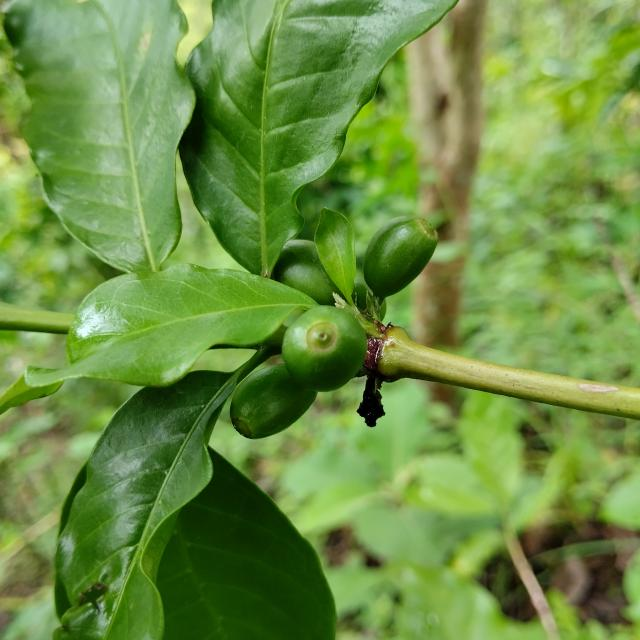green: (282, 305, 367, 392), (230, 364, 317, 439), (364, 216, 438, 299), (364, 216, 438, 299), (272, 239, 340, 305)
